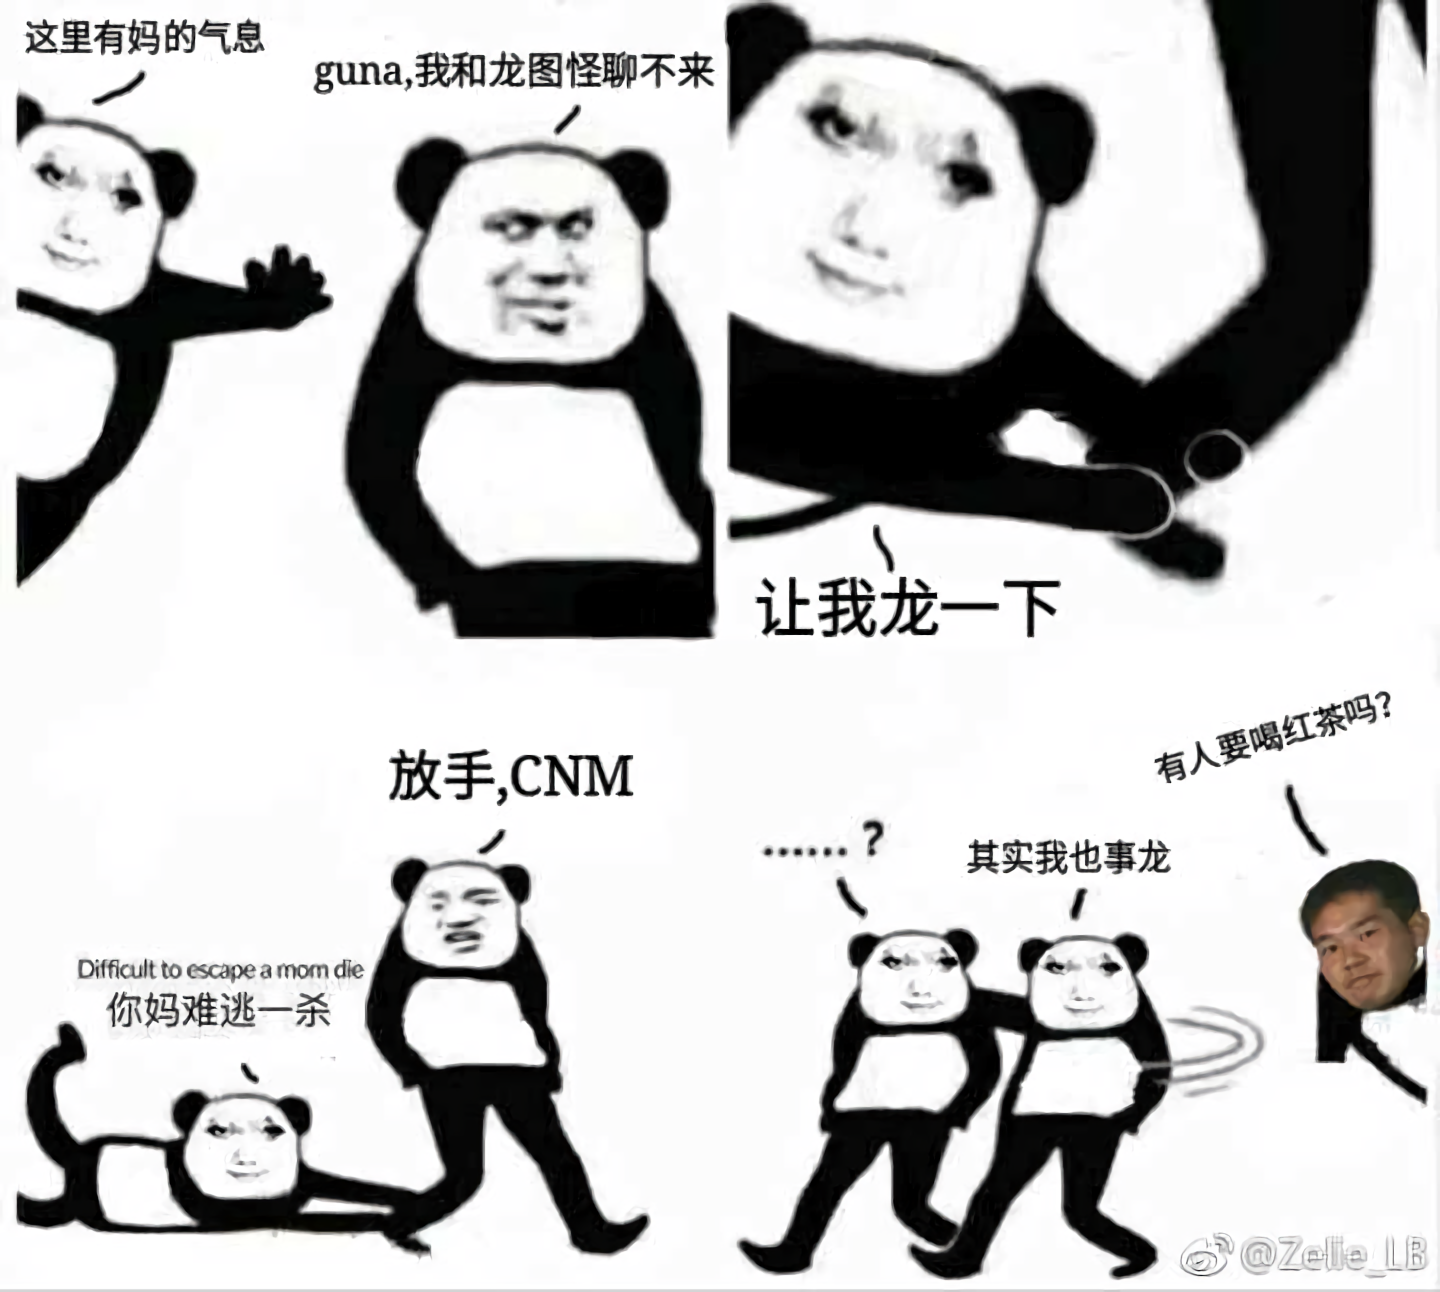dragon: (777, 89, 1000, 337), (24, 148, 151, 279), (199, 1111, 292, 1192), (883, 943, 962, 1020), (1044, 957, 1132, 1018)
